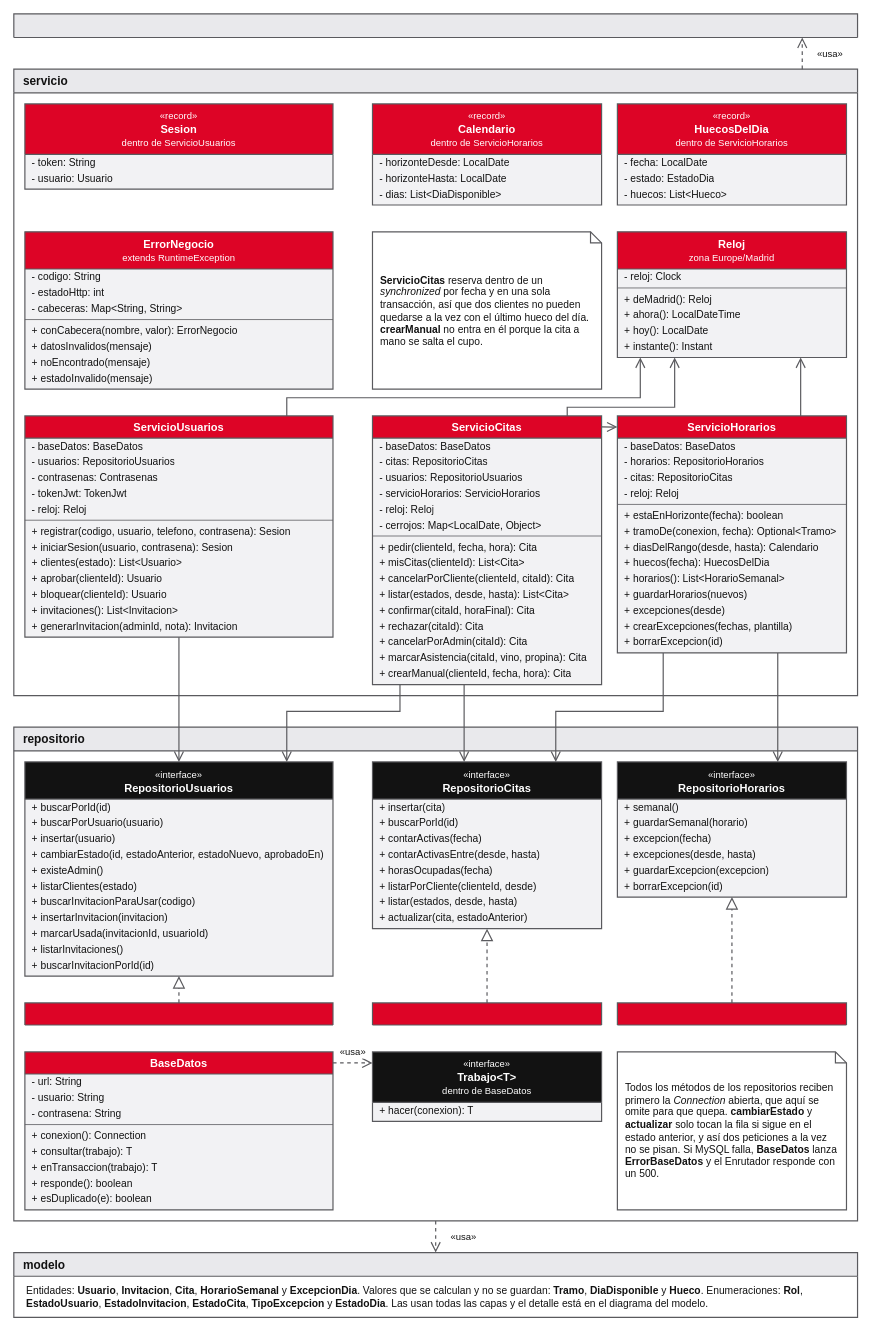
This 872x1332 diagram has some shape labels left out. Here are the shapes that lost their labels. From the top down, the centre of each, then its label:
At point (435, 25): "seguridad · Contrasenas y TokenJwt (detalle en 04a)".
At point (178, 1013): "RepositorioUsuariosJdbc".
At point (487, 1013): "RepositorioCitasJdbc".
At point (731, 1013): "RepositorioHorariosJdbc".
